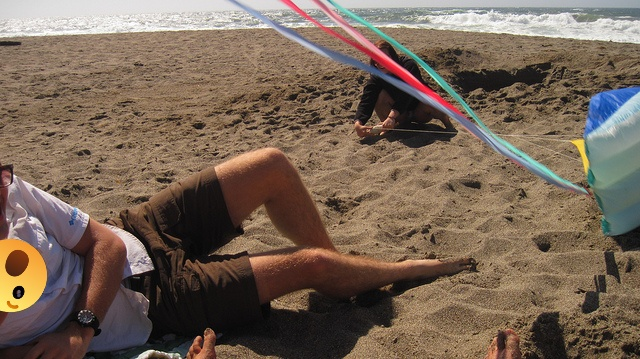wow: (0, 239, 47, 312)
